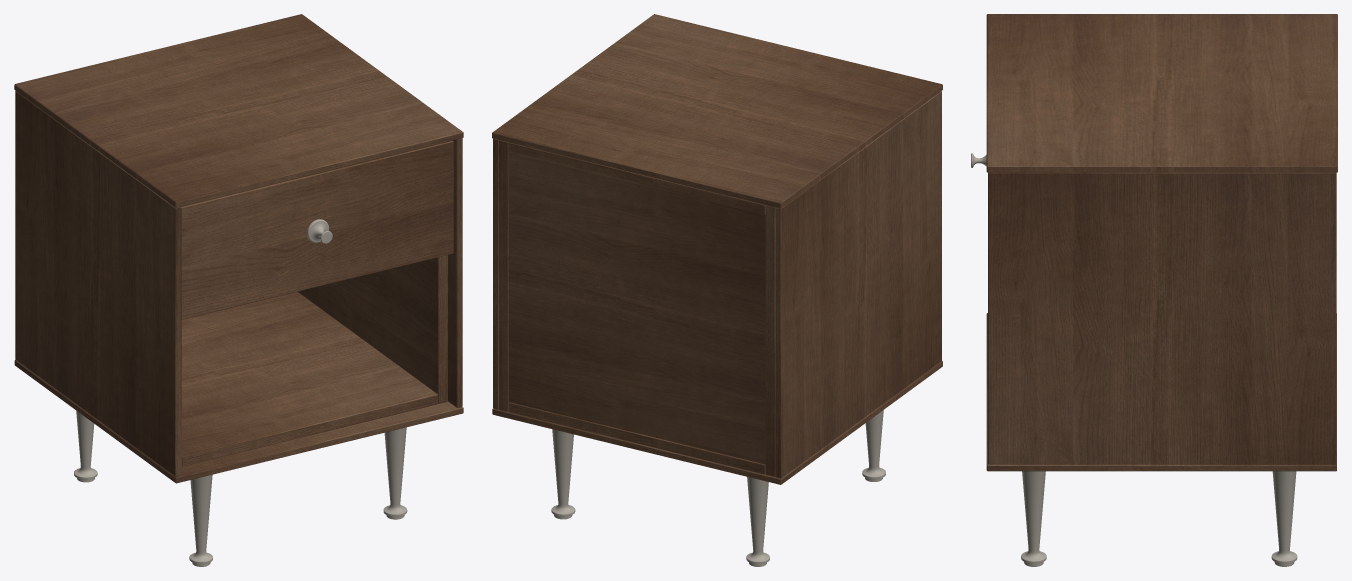
The model's file is nightstand.glb.
The picture shows the model from 3 angles, left to right: view 1: azimuth 30°, elevation 25°; view 2: azimuth 150°, elevation 25°; view 3: azimuth 270°, elevation 25°; orthographic projection. The views are drawn at different scales.
Parts seen in each view (by area): view 1: BP_ACIB00570; view 2: BP_ACIB00570; view 3: BP_ACIB00570.
Boxes of the visible parts, x1,y1,x2,y2 form: BP_ACIB00570: [14, 14, 463, 566]; BP_ACIB00570: [492, 14, 942, 566]; BP_ACIB00570: [971, 14, 1337, 566].
Bounding box in the file's own units: 0.439 × 0.5655 × 0.446.
Materials: 2 (1 with a texture image).
